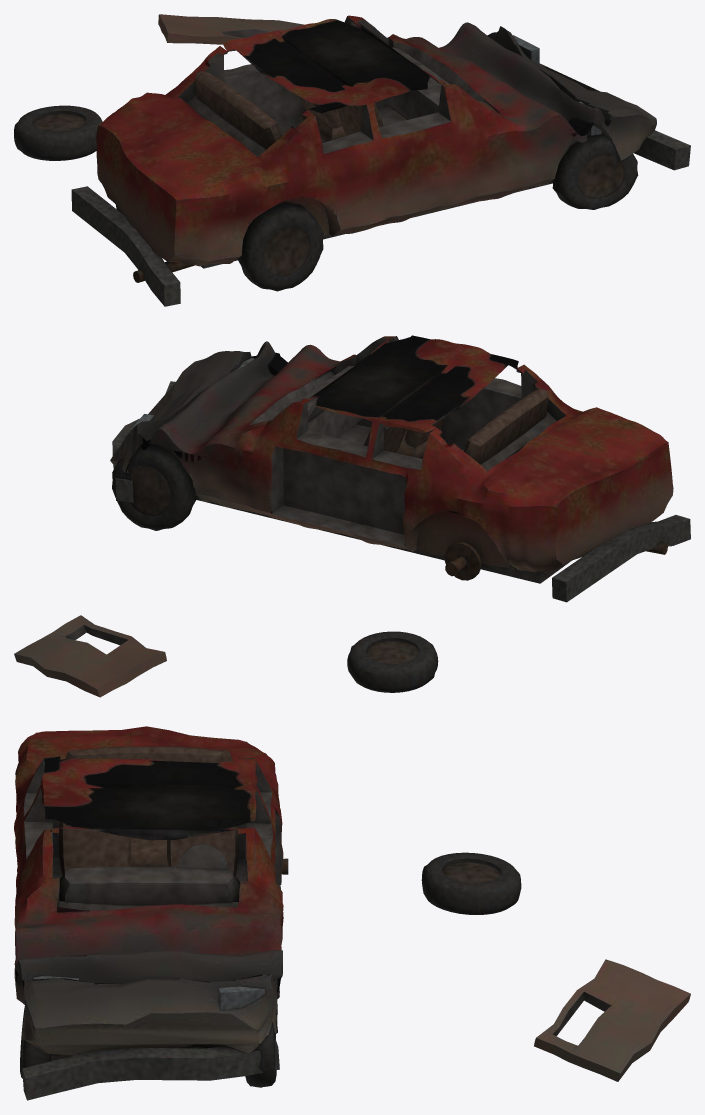
The model's file is carro_destruido.glb.
3 views of the same model, one above another, from view 1: azimuth 30°, elevation 25°; view 2: azimuth 150°, elevation 25°; view 3: azimuth 270°, elevation 25° (orthographic). The views are drawn at different scales.
Visible parts, largest first — view 1: carro_destruido; view 2: carro_destruido; view 3: carro_destruido.
Part boxes in pixels (left/top/right/bottom): carro_destruido: left=14, top=14, right=690, bottom=306; carro_destruido: left=14, top=335, right=690, bottom=697; carro_destruido: left=14, top=726, right=690, bottom=1100.
Bounding box in the file's own units: 4.47 × 1.43 × 4.52.
Materials: 1 (1 with a texture image).
